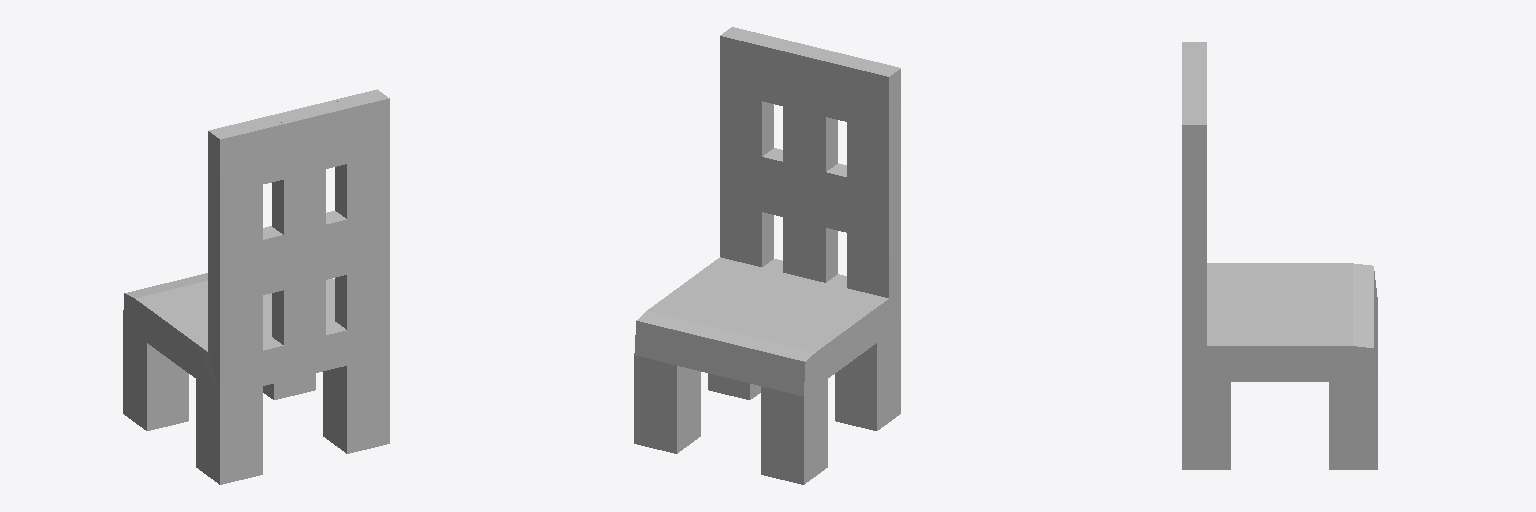
File: Chair1.obj
3 renders of one model, left to right at view 1: azimuth 30°, elevation 25°; view 2: azimuth 150°, elevation 25°; view 3: azimuth 270°, elevation 25°, orthographic.
Visible parts, largest first — view 1: Cube; view 2: Cube; view 3: Cube.
Part boxes in pixels (bbox=[...]): Cube: bbox=[123, 89, 389, 484]; Cube: bbox=[634, 27, 900, 484]; Cube: bbox=[1182, 42, 1377, 469].
Size of the model in its own units: 2 by 3.9 by 2.